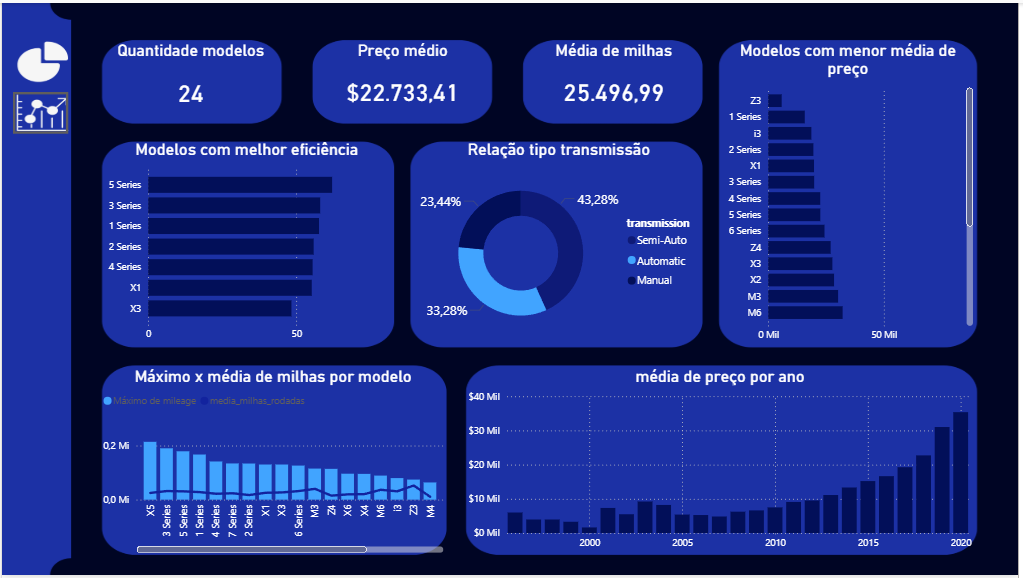

What the dashboard file says about the page in this screenshot:
{"tool":"powerbi","page":{"name":"Visão geral","canvas":[1280,720],"ordinal":0},"visuals":[{"type":"card","title":"Quantidade modelos","fields":{"Values":["_metricas.qtd_modelos"]},"box":[122.6,47.5,231.5,104.2],"z":0},{"type":"card","title":"Preço médio","fields":{"Values":["_metricas.preco_medio"]},"box":[388.9,47.3,231.2,103.8],"z":1000},{"type":"card","title":"Média de milhas","fields":{"Values":["_metricas.media_milhas_rodadas"]},"box":[655.6,47.3,231.2,103.8],"z":2000},{"type":"clusteredBarChart","title":"Modelos com menor média de preço","fields":{"Y":["Avg(bmw.price)"],"Category":["bmw.model"]},"box":[902.9,47.5,325,387.8],"z":3000},{"type":"donutChart","title":"Relação tipo transmissão","fields":{"Category":["bmw.transmission"],"Y":["CountNonNull(bmw.model)"]},"box":[515.1,173.2,372.5,262.1],"z":4000},{"type":"clusteredColumnChart","title":"média de preço por ano","fields":{"Category":["bmw.year"],"Y":["_metricas.preco_medio"]},"box":[582,458.5,645.1,239.1],"z":5000},{"type":"clusteredBarChart","title":"Modelos com melhor eficiência","fields":{"Y":["Avg(bmw.mpg)"],"Category":["bmw.model"]},"box":[122.6,173.2,372.5,262.1],"z":6000},{"type":"lineClusteredColumnComboChart","title":"Máximo x média de milhas por modelo","fields":{"Y2":["_metricas.media_milhas_rodadas"],"Category":["bmw.model"],"Y":["Max(bmw.mileage)"]},"box":[122.2,458.5,438.8,239.1],"z":7000},{"type":"actionButton","box":[14.5,111.7,69.6,52.6],"z":7001}]}

Visuals, with their boxes in screenshot pixels (x1, y1, x2, y2), scaled from the page's 1280x720 canvas onto the 1023x578 screenshot:
"Quantidade modelos" card: 98 38 283 122
"Preço médio" card: 311 38 496 121
"Média de milhas" card: 524 38 709 121
"Modelos com menor média de preço" clusteredBarChart: 722 38 981 349
"Relação tipo transmissão" donutChart: 412 139 709 349
"média de preço por ano" clusteredColumnChart: 465 368 981 560
"Modelos com melhor eficiência" clusteredBarChart: 98 139 396 349
"Máximo x média de milhas por modelo" lineClusteredColumnComboChart: 98 368 448 560
actionButton: 12 90 67 132
